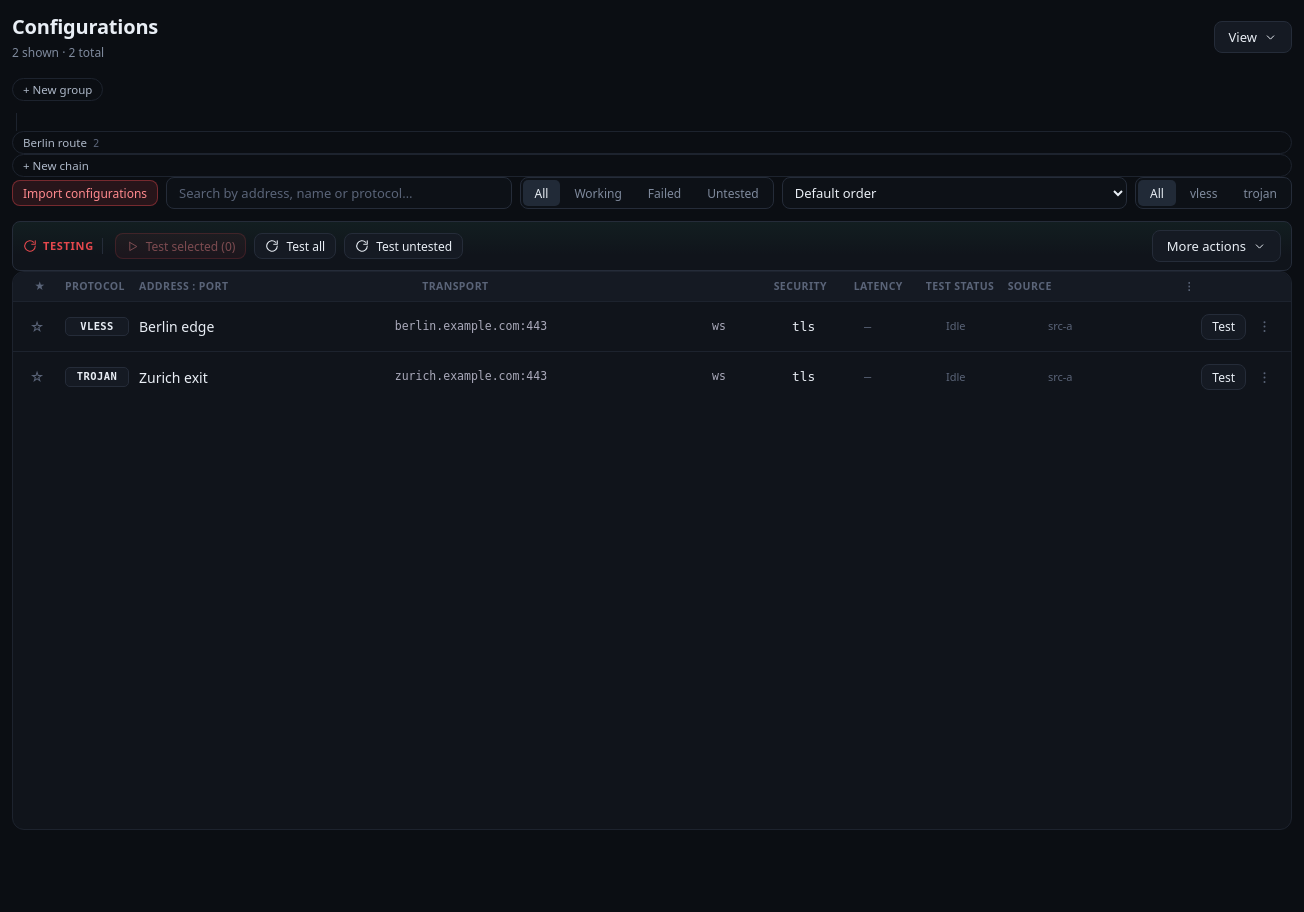
it: Proxy chain scopes (v0.12.2) › shows the chain scope header with Check chain, Connect and Edit — never Update source
This screenshot has width=1304, height=912.
Click the button "Berlin route 2" at [55, 142], box x1=12 y1=131 x2=1292 y2=154
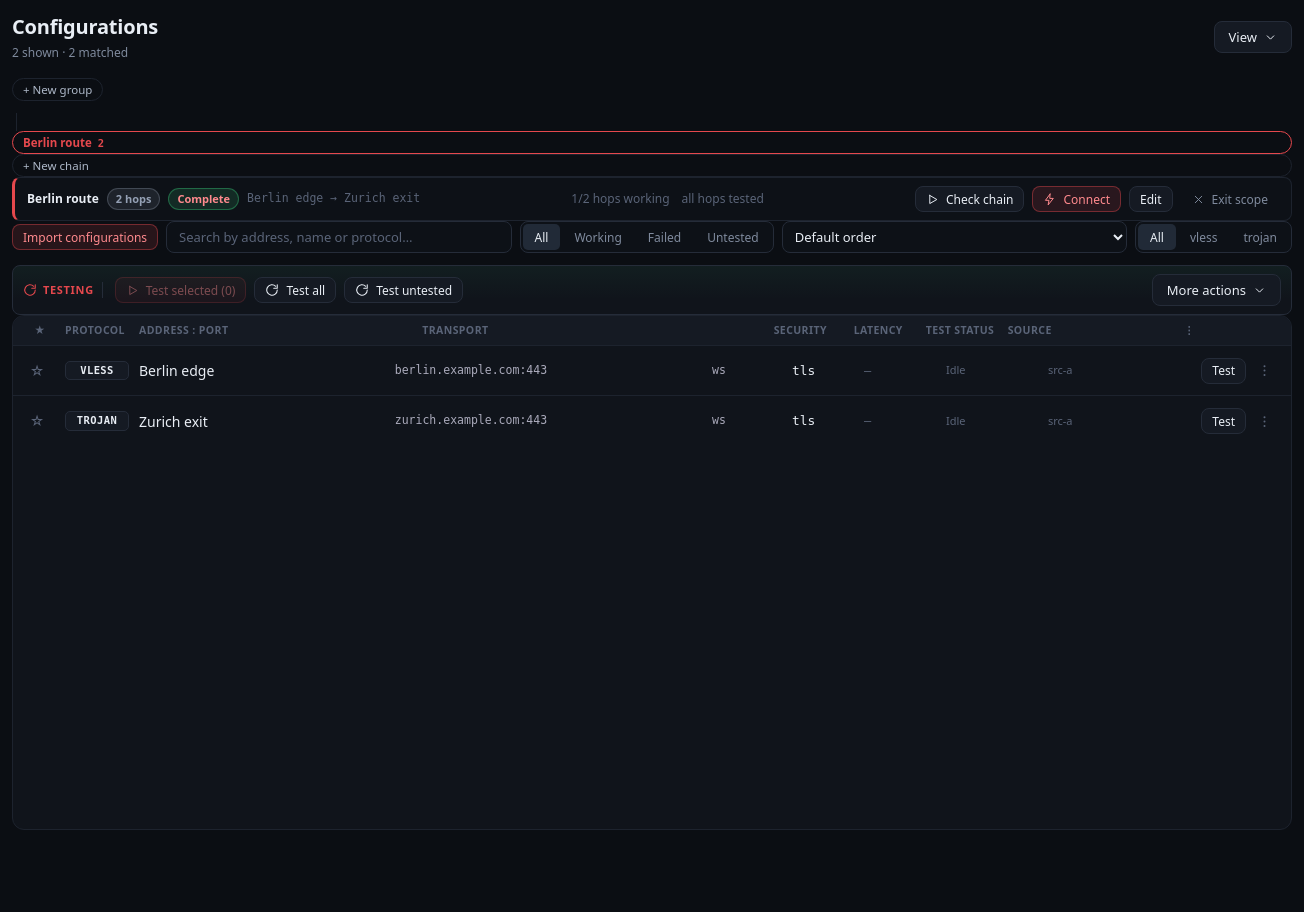
Now the text "2 hops" is shown, box x1=107 y1=188 x2=160 y2=210
Now the text "Berlin edge → Zurich exit" is shown, box x1=247 y1=190 x2=420 y2=208
Now the button "Check chain" is shown, box x1=915 y1=186 x2=1024 y2=212
